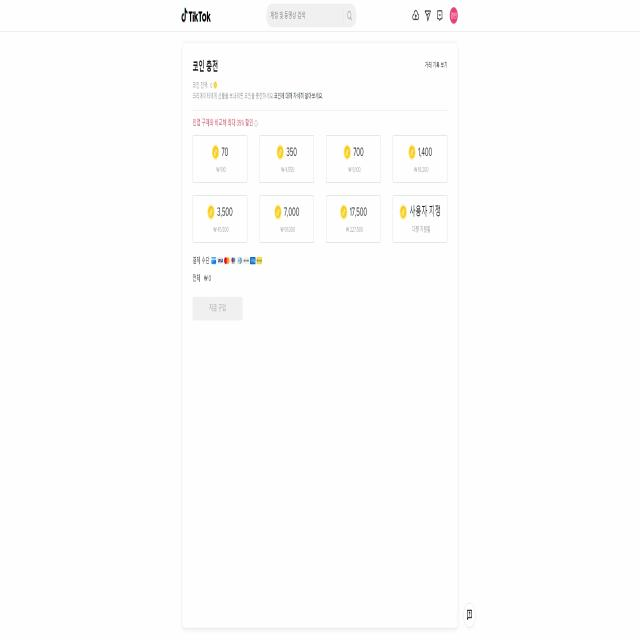menu-bar: (407, 6, 461, 28)
search: (266, 4, 357, 29)
